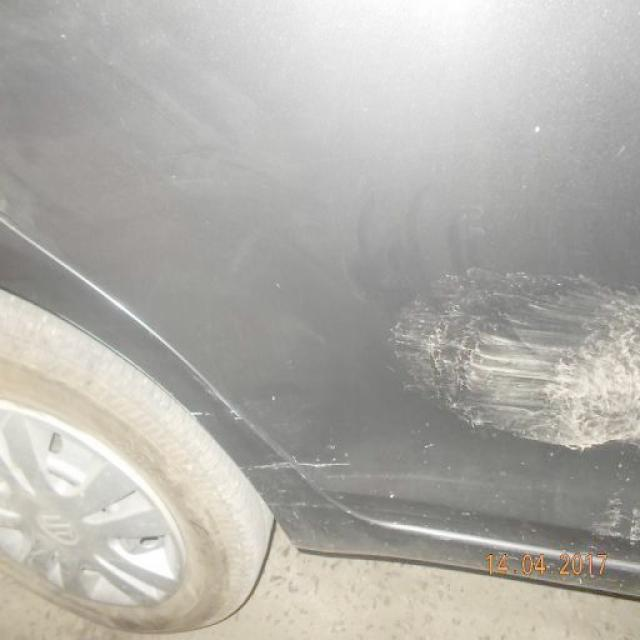car damage: (390, 261, 639, 450), (245, 447, 354, 477), (197, 387, 280, 426), (601, 494, 638, 555)
